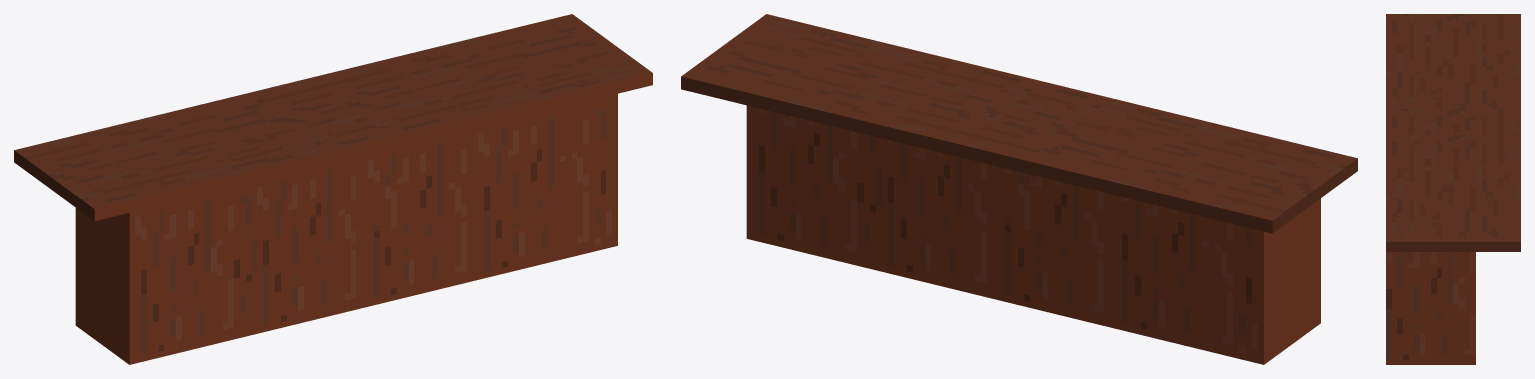
Rendered from bartop.gltf.
3 renders of one model, left to right at view 1: azimuth 30°, elevation 25°; view 2: azimuth 150°, elevation 25°; view 3: azimuth 270°, elevation 25°, orthographic. The views are drawn at different scales.
Parts seen in each view (by area): view 1: cuboid; view 2: cuboid; view 3: cuboid.
Boxes of the visible parts, x1,y1,x2,y2 form: cuboid: (14,14,652,364); cuboid: (681,14,1357,364); cuboid: (1386,14,1520,364).
Size of the model in its own units: 6 by 1.69 by 1.5.
1 material, 1 textured.
